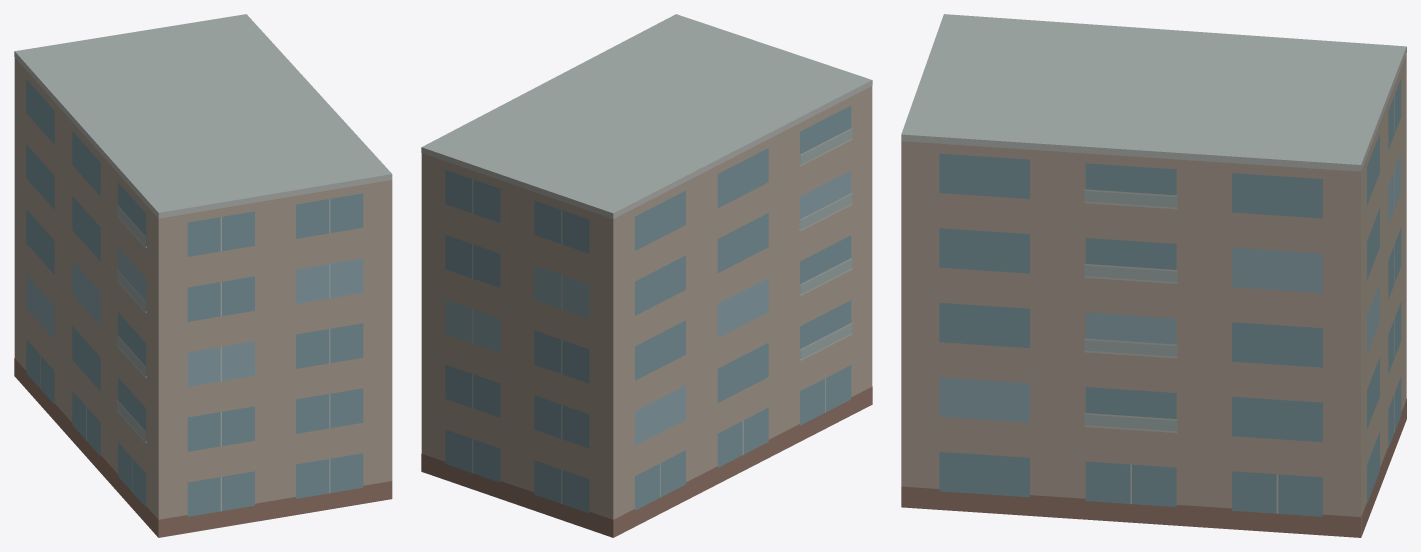
Rendered from survey-upis-32678266.glb.
3 renders of one model, left to right at view 1: azimuth 30°, elevation 25°; view 2: azimuth 150°, elevation 25°; view 3: azimuth 270°, elevation 25°, orthographic. The views are drawn at different scales.
Parts seen in each view (by area): view 1: survey-upis-32678266.tmp; view 2: survey-upis-32678266.tmp; view 3: survey-upis-32678266.tmp.
Part boxes in pixels (x1,y1,x2,y2): survey-upis-32678266.tmp: (14, 14, 392, 537); survey-upis-32678266.tmp: (421, 14, 872, 537); survey-upis-32678266.tmp: (901, 14, 1406, 537).
Bounding box in the file's own units: 12 × 13.8 × 16.97.
